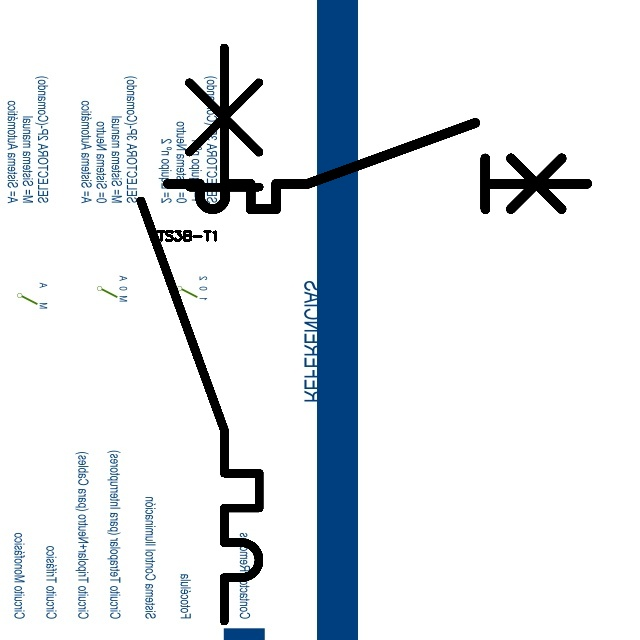interruptor_termomagnetico: (126, 33, 274, 636), (157, 112, 597, 220)
